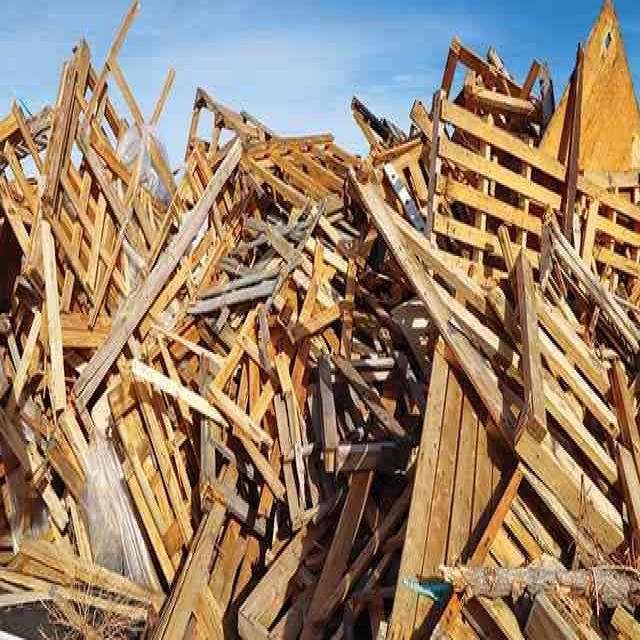Organik: (6, 34, 639, 640)
